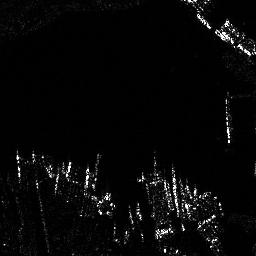ship: (222, 96, 234, 145)
